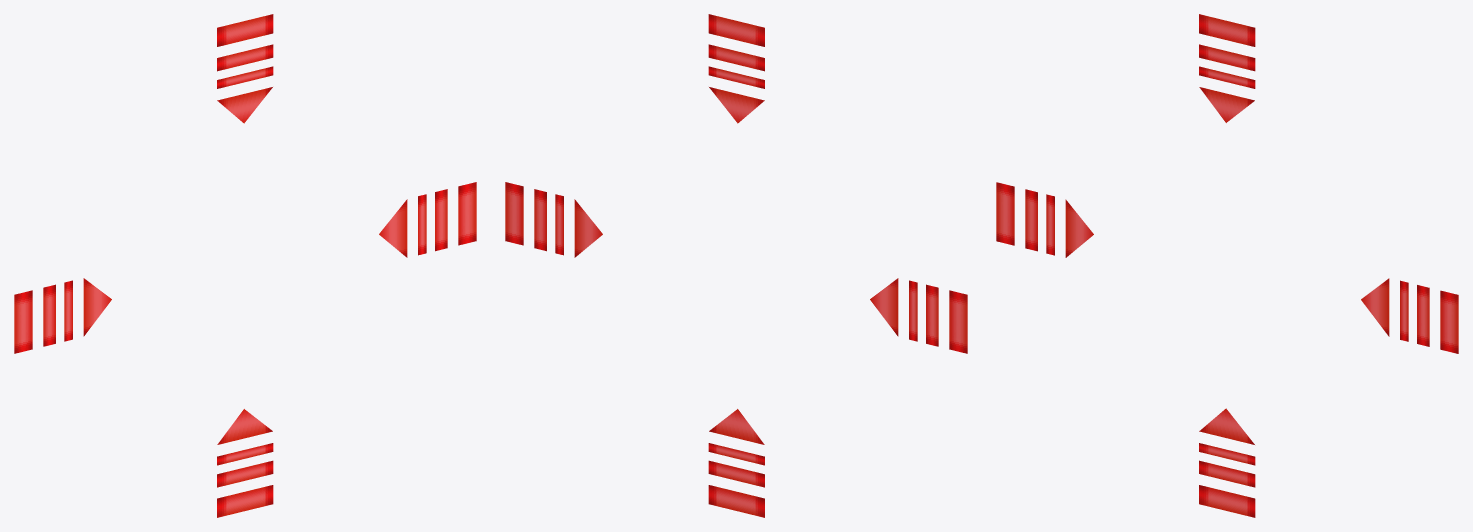
Rendered from 3Darrow.glb.
The picture shows the model from 3 angles, left to right: view 1: azimuth 30°, elevation 25°; view 2: azimuth 150°, elevation 25°; view 3: azimuth 330°, elevation 25°; orthographic projection.
Visible parts, largest first — view 1: 3Darrow; view 2: 3Darrow; view 3: 3Darrow.
Part boxes in pixels (<box>): 3Darrow: <box>14,14,476,517</box>; 3Darrow: <box>505,14,967,517</box>; 3Darrow: <box>996,14,1458,517</box>.
Size of the model in its own units: 102 by 103 by 0.
Materials: 1 (1 with a texture image).
